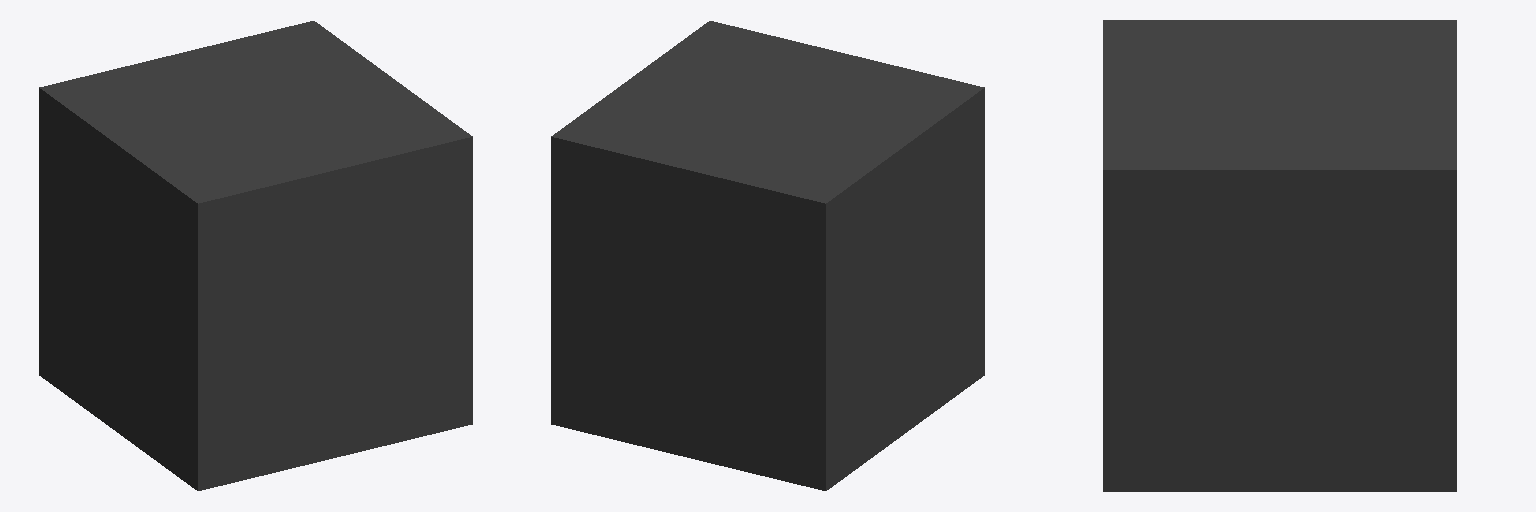
robot.urdf — box:
<?xml version='1.0' encoding='UTF-8'?>
<robot name="box">
  <link name="base_link">
    <inertial>
      <origin xyz="0.0 0.0 0.0" rpy="0.0 -0.0 0.0"/>
      <mass value="1.0"/>
      <inertia ixx="1.0" ixy="0.0" ixz="0.0" iyy="1.0" iyz="0.0" izz="1.0"/>
    </inertial>
    <visual name="base_link_visual">
      <geometry>
        <box size="0.5 0.5 0.5"/>
      </geometry>
      <material name="base_link_color">
        <color rgba="0.3 0.3 0.3 1"/>
      </material>
      <origin xyz="0 0 0" rpy="0 0 0"/>
    </visual>
    <collision name="base_link_collision">
      <geometry>
        <box size="0.5 0.5 0.5"/>
      </geometry>
      <origin xyz="0 0 0" rpy="0 0 0"/>
    </collision>
  </link>
</robot>

--- Render facts (derived) ---
The picture shows the robot from 3 angles, left to right: view 1: azimuth 30°, elevation 25°; view 2: azimuth 150°, elevation 25°; view 3: azimuth 270°, elevation 25°; orthographic projection.
Robot: box — 1 links, 0 joints (none); root link base_link; default pose: all joints at 0.
Visible links, largest first — view 1: base_link; view 2: base_link; view 3: base_link.
Boxes of the visible links, x1=… form: base_link: x1=39, y1=21, x2=472, y2=490; base_link: x1=551, y1=21, x2=984, y2=490; base_link: x1=1103, y1=20, x2=1456, y2=491.
Size in the robot's own frame: 0.5 by 0.5 by 0.5 metres.
Geometry: primitives only (box / cylinder / sphere), no mesh files.